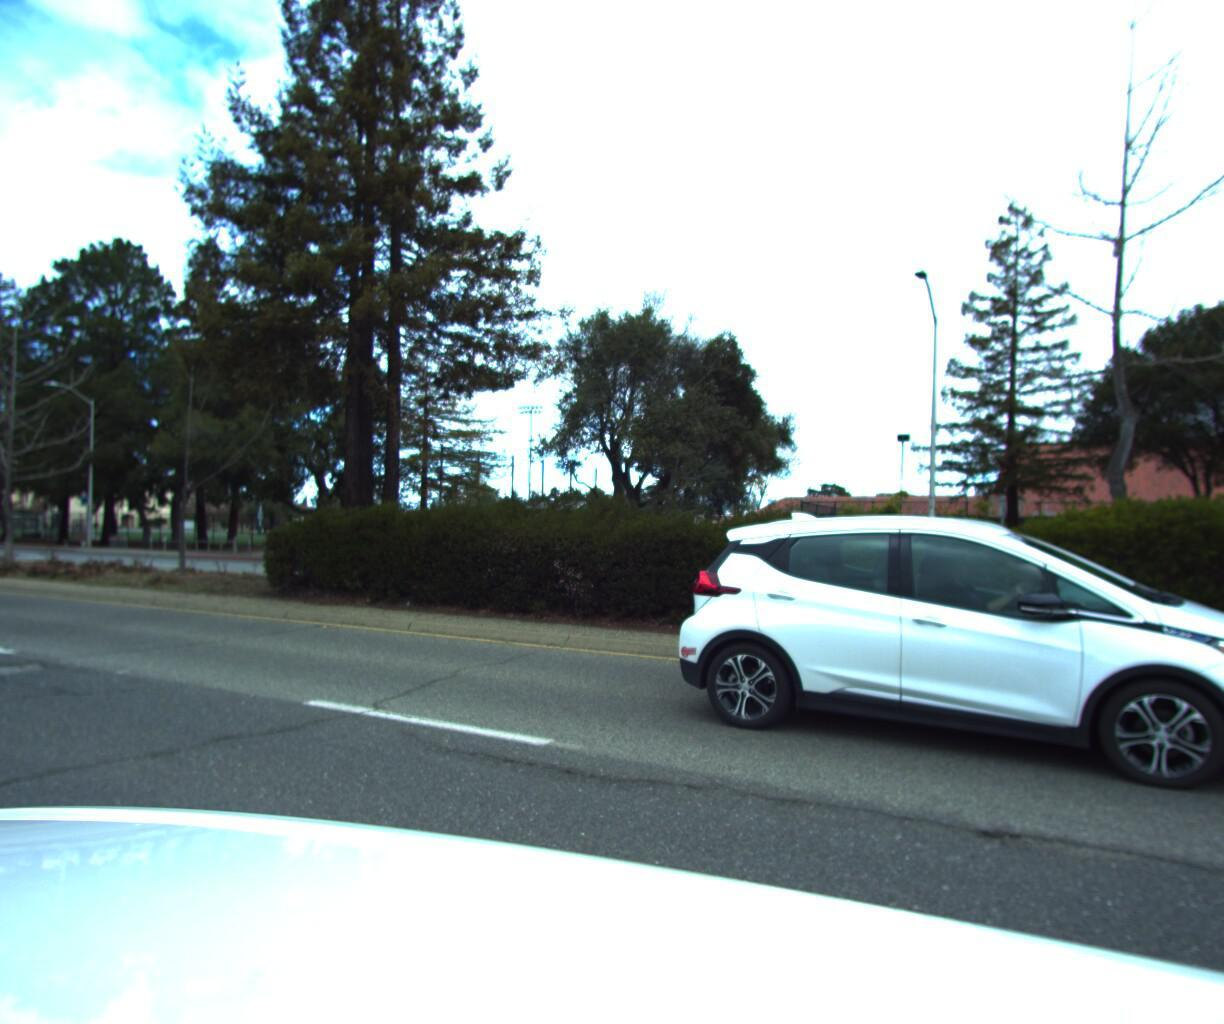car: (629, 503, 1224, 807)
